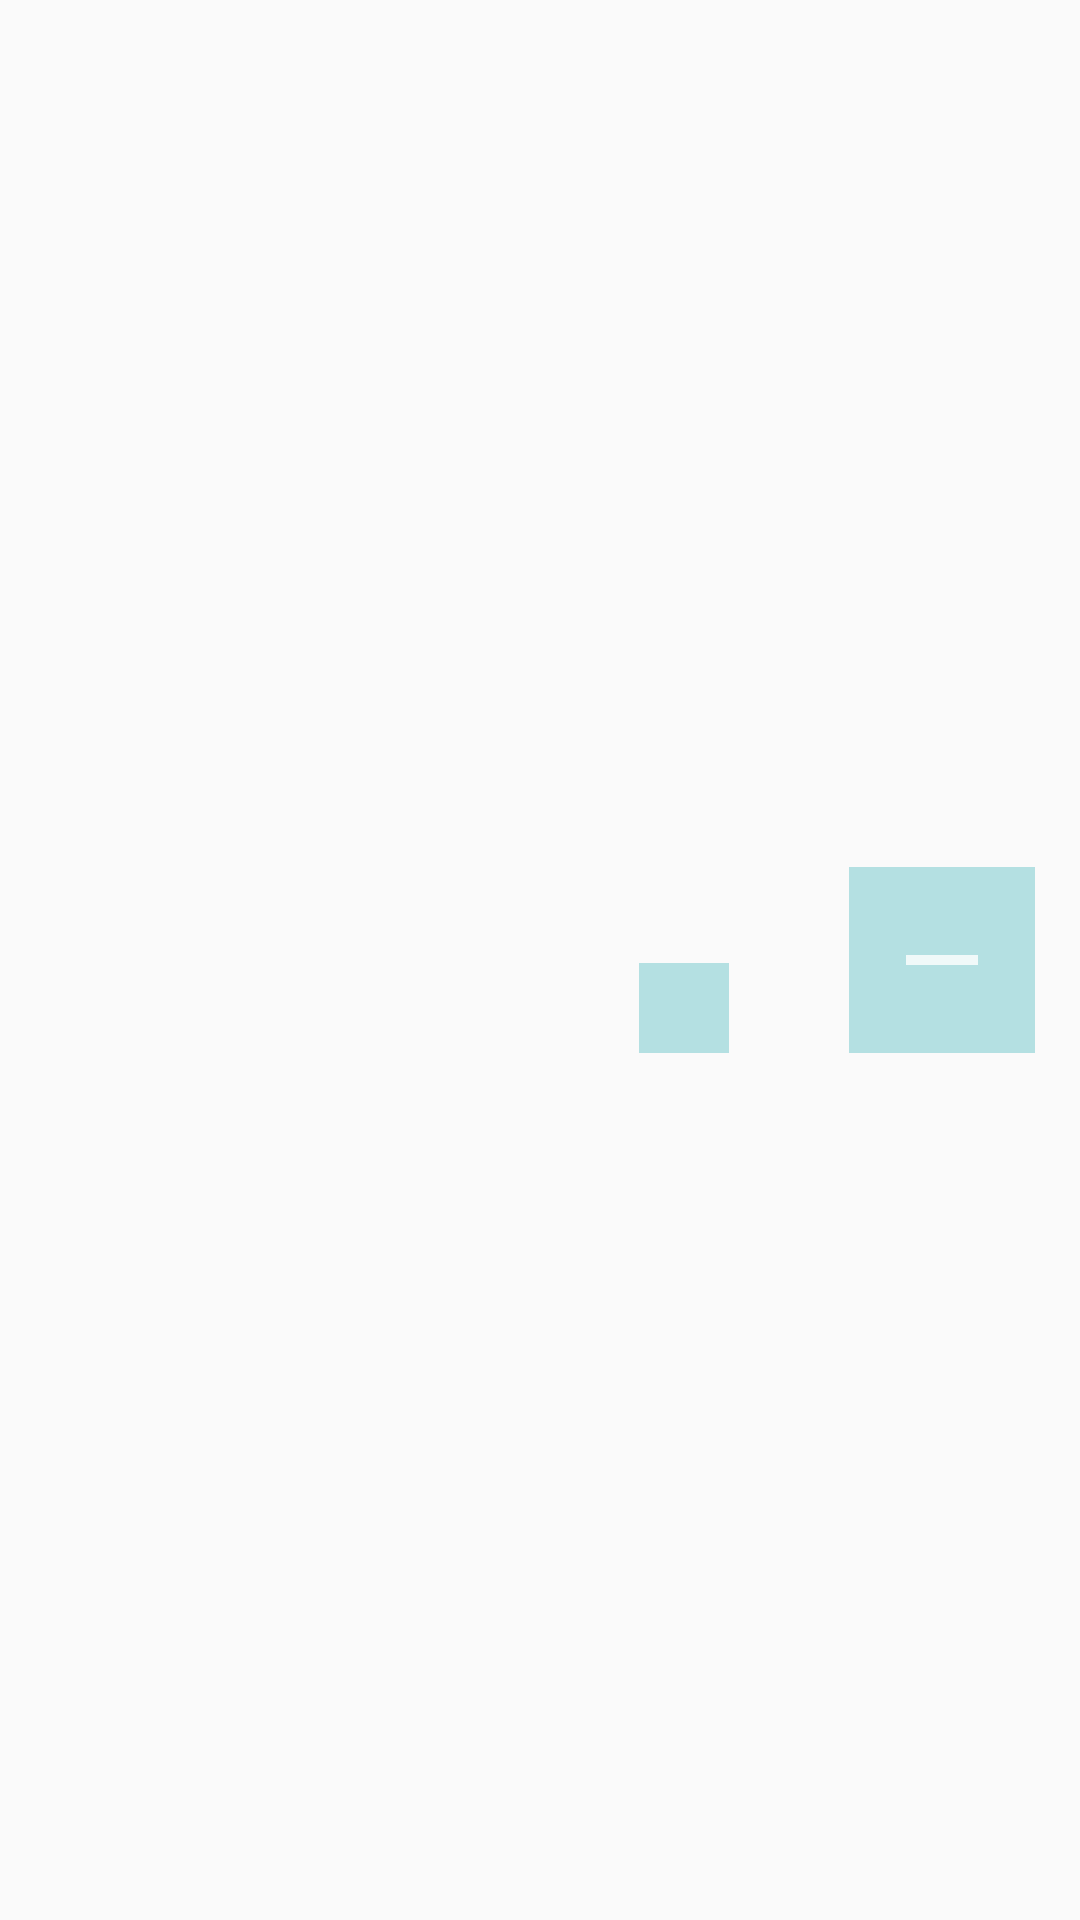

Screen size 1080 x 1920. Icon name, then its center in pixels as [x,y]:
Decrease Score: [942,960]
